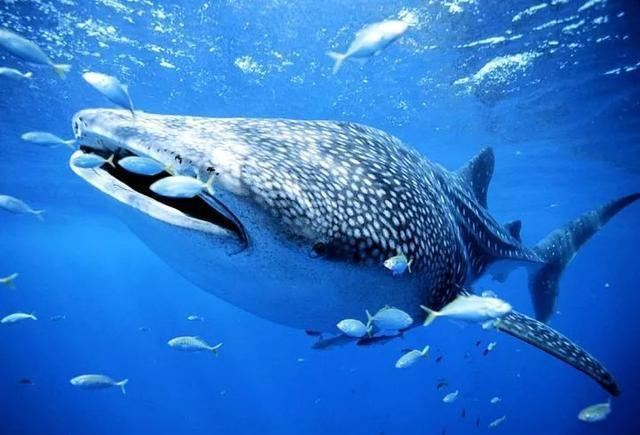fish: (69, 108, 640, 393)
